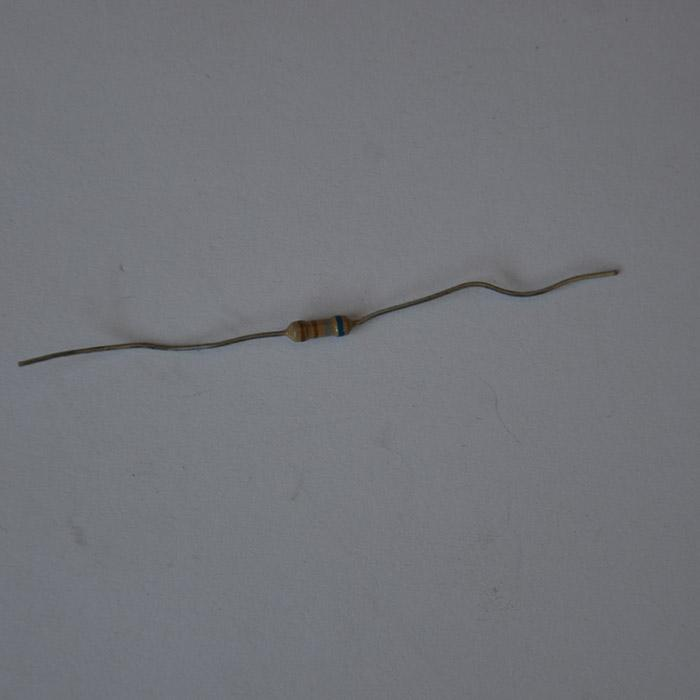resistor: (284, 315, 349, 341)
